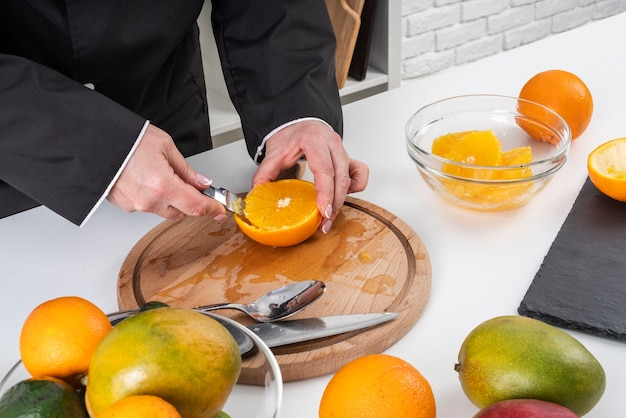knife: (247, 312, 405, 349), (200, 184, 246, 221)
